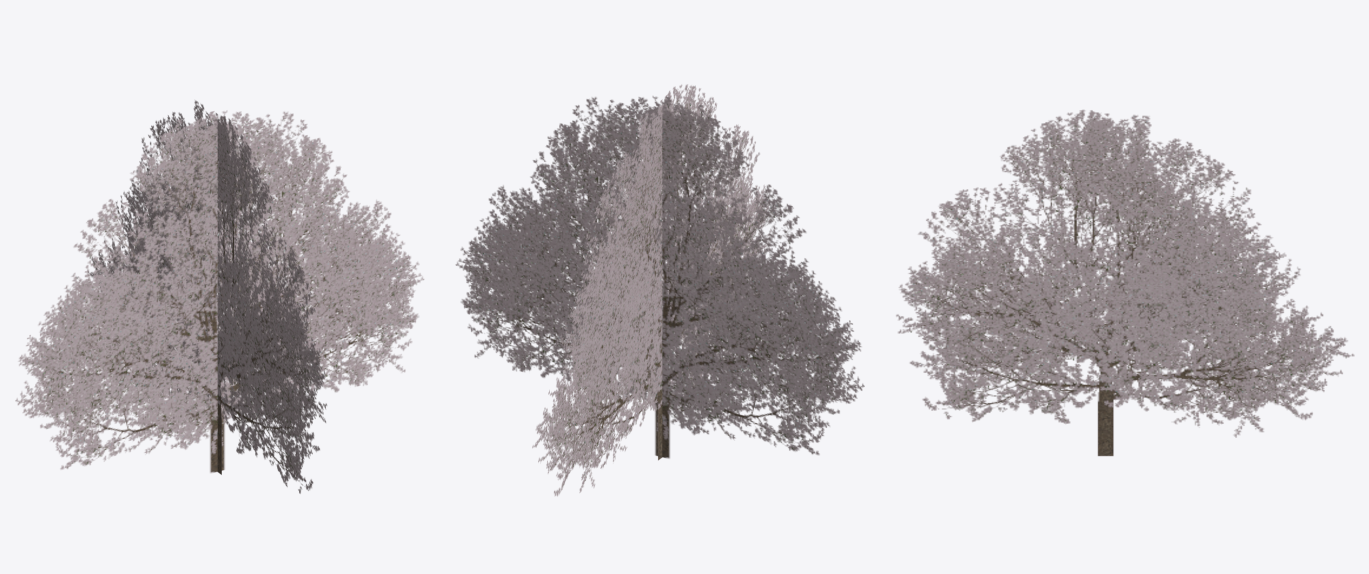
Rendered from CornusFlorida.glb.
3 views of the same model, side by side, from view 1: azimuth 30°, elevation 25°; view 2: azimuth 150°, elevation 25°; view 3: azimuth 270°, elevation 25° (orthographic). The views are drawn at different scales.
Visible parts, largest first — view 1: mesh__mat_billboard_11; view 2: mesh__mat_billboard_11; view 3: mesh__mat_billboard_11.
Part boxes in pixels (<box>): mesh__mat_billboard_11: <box>15,100,424,493</box>; mesh__mat_billboard_11: <box>455,84,864,496</box>; mesh__mat_billboard_11: <box>896,109,1354,456</box>.
Bounding box in the file's own units: 6.77 × 5.81 × 6.86.
Materials: 1 (1 with a texture image).
